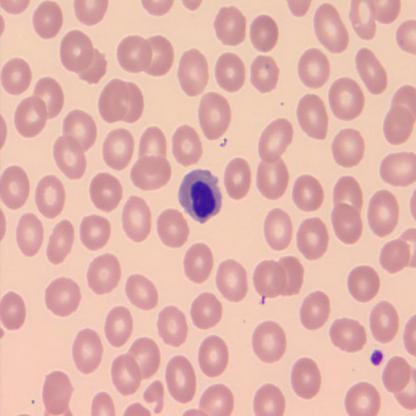NRC: (177, 167, 223, 225)
